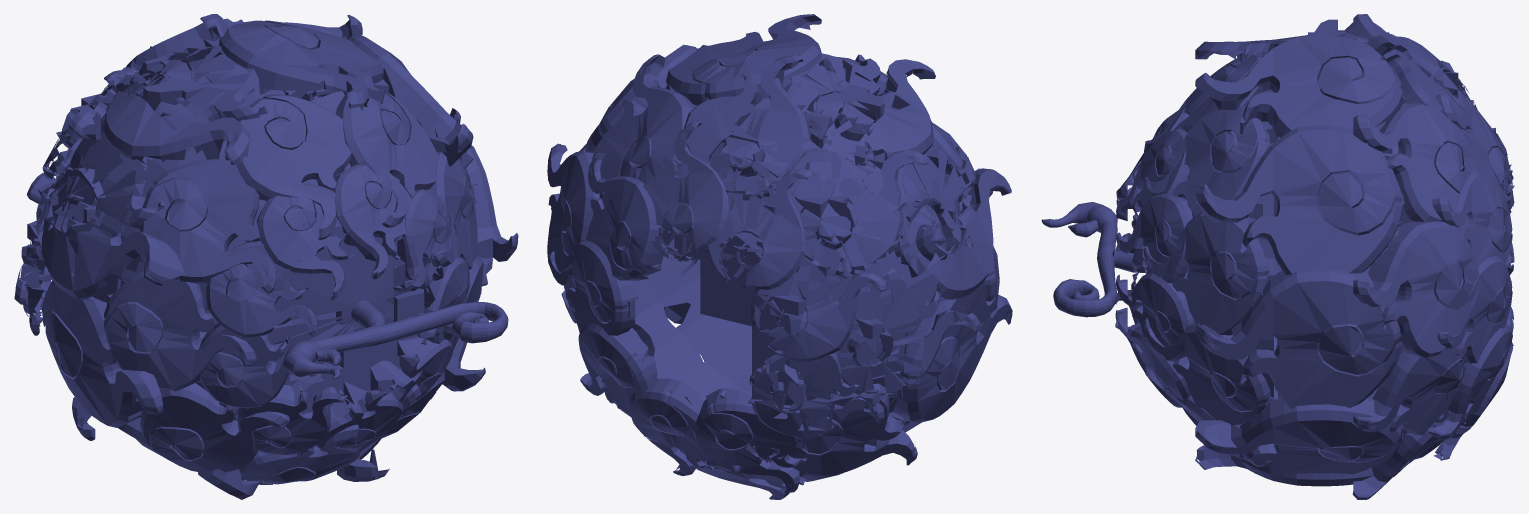
Rendered from jollyroger.obj.
3 views of the same model, side by side, from view 1: azimuth 30°, elevation 25°; view 2: azimuth 150°, elevation 25°; view 3: azimuth 270°, elevation 25° (orthographic). The views are drawn at different scales.
Visible parts, largest first — view 1: obj_0; view 2: obj_0; view 3: obj_0.
Part boxes in pixels (bbox=[...]): obj_0: bbox=[14, 14, 518, 499]; obj_0: bbox=[547, 14, 1012, 499]; obj_0: bbox=[1041, 14, 1514, 499].
Bounding box in the file's own units: 135 × 135 × 129.
